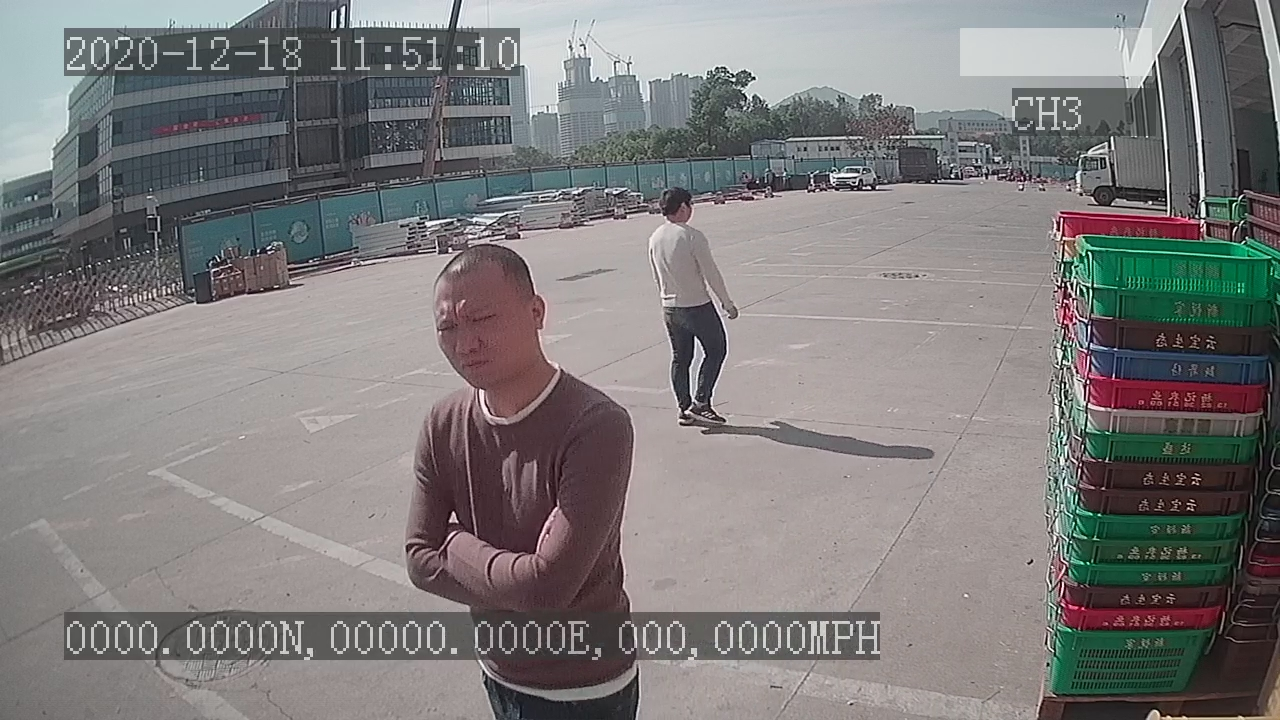person: (640, 179, 749, 433)
